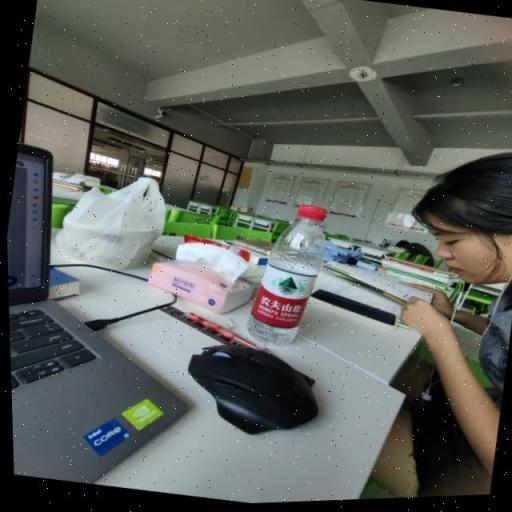plastic: (246, 203, 327, 346)
